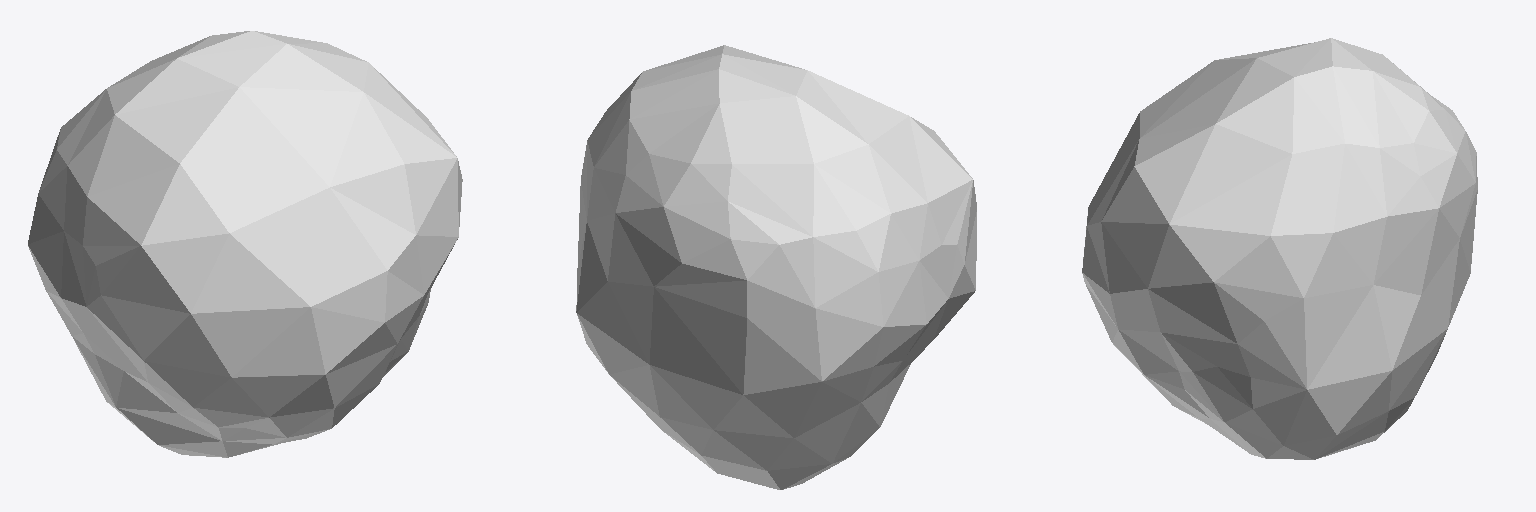
File: stg600_obj_meteoriteB02.obj
The picture shows the model from 3 angles: view 1: azimuth 30°, elevation 25°; view 2: azimuth 150°, elevation 25°; view 3: azimuth 270°, elevation 25°; orthographic projection.
Visible parts, largest first — view 1: polygon0; view 2: polygon0; view 3: polygon0.
Boxes of the visible parts, <box> form: polygon0: <box>28,31,462,457</box>; polygon0: <box>576,45,976,489</box>; polygon0: <box>1082,38,1477,459</box>.
Bounding box in the file's own units: 89.79 × 97.31 × 86.99.